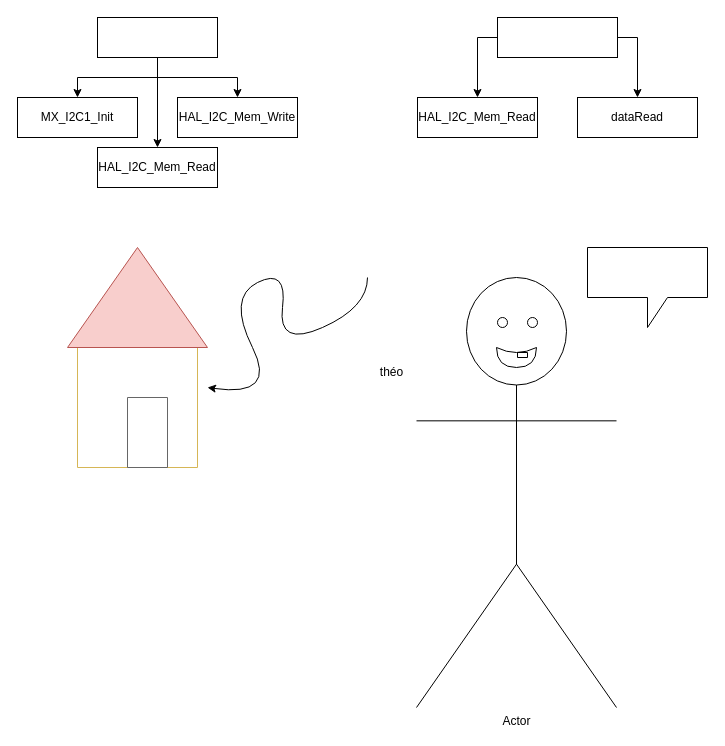
The diagram is 725 pixels wide and 746 high, and some of its shapes have lost their labels. Each missing label, with the centre of its shape:
Bonjour ! C'est ma maison !: point (647, 287)
initialise: point (157, 37)
RécupèreValeurs: point (557, 37)
